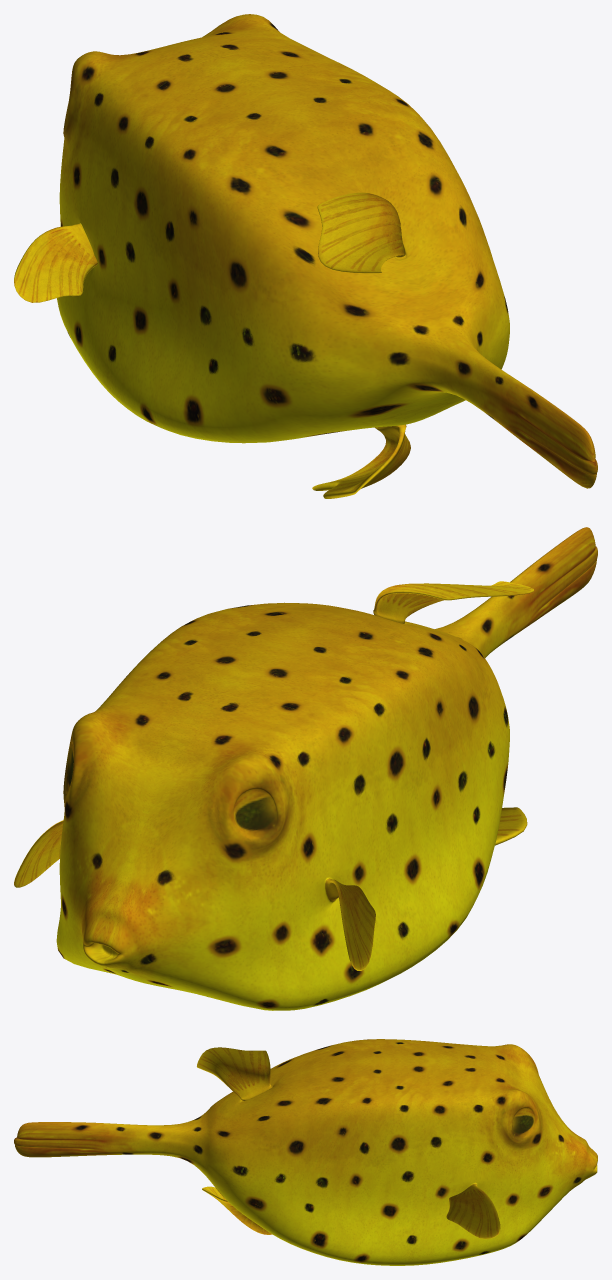
The model's file is Koffer.glb.
The picture shows the model from 3 angles, top to bottom: view 1: azimuth 30°, elevation 25°; view 2: azimuth 150°, elevation 25°; view 3: azimuth 270°, elevation 25°; orthographic projection. The views are drawn at different scales.
Visible parts, largest first — view 1: polySurface; view 2: polySurface; view 3: polySurface.
Boxes of the visible parts, x1,y1,x2,y2 form: polySurface: (14,14,597,498); polySurface: (14,527,597,1010); polySurface: (14,1039,597,1265).
Bounding box in the file's own units: 0.0531 × 0.0458 × 0.1337.
1 material, 1 textured.
